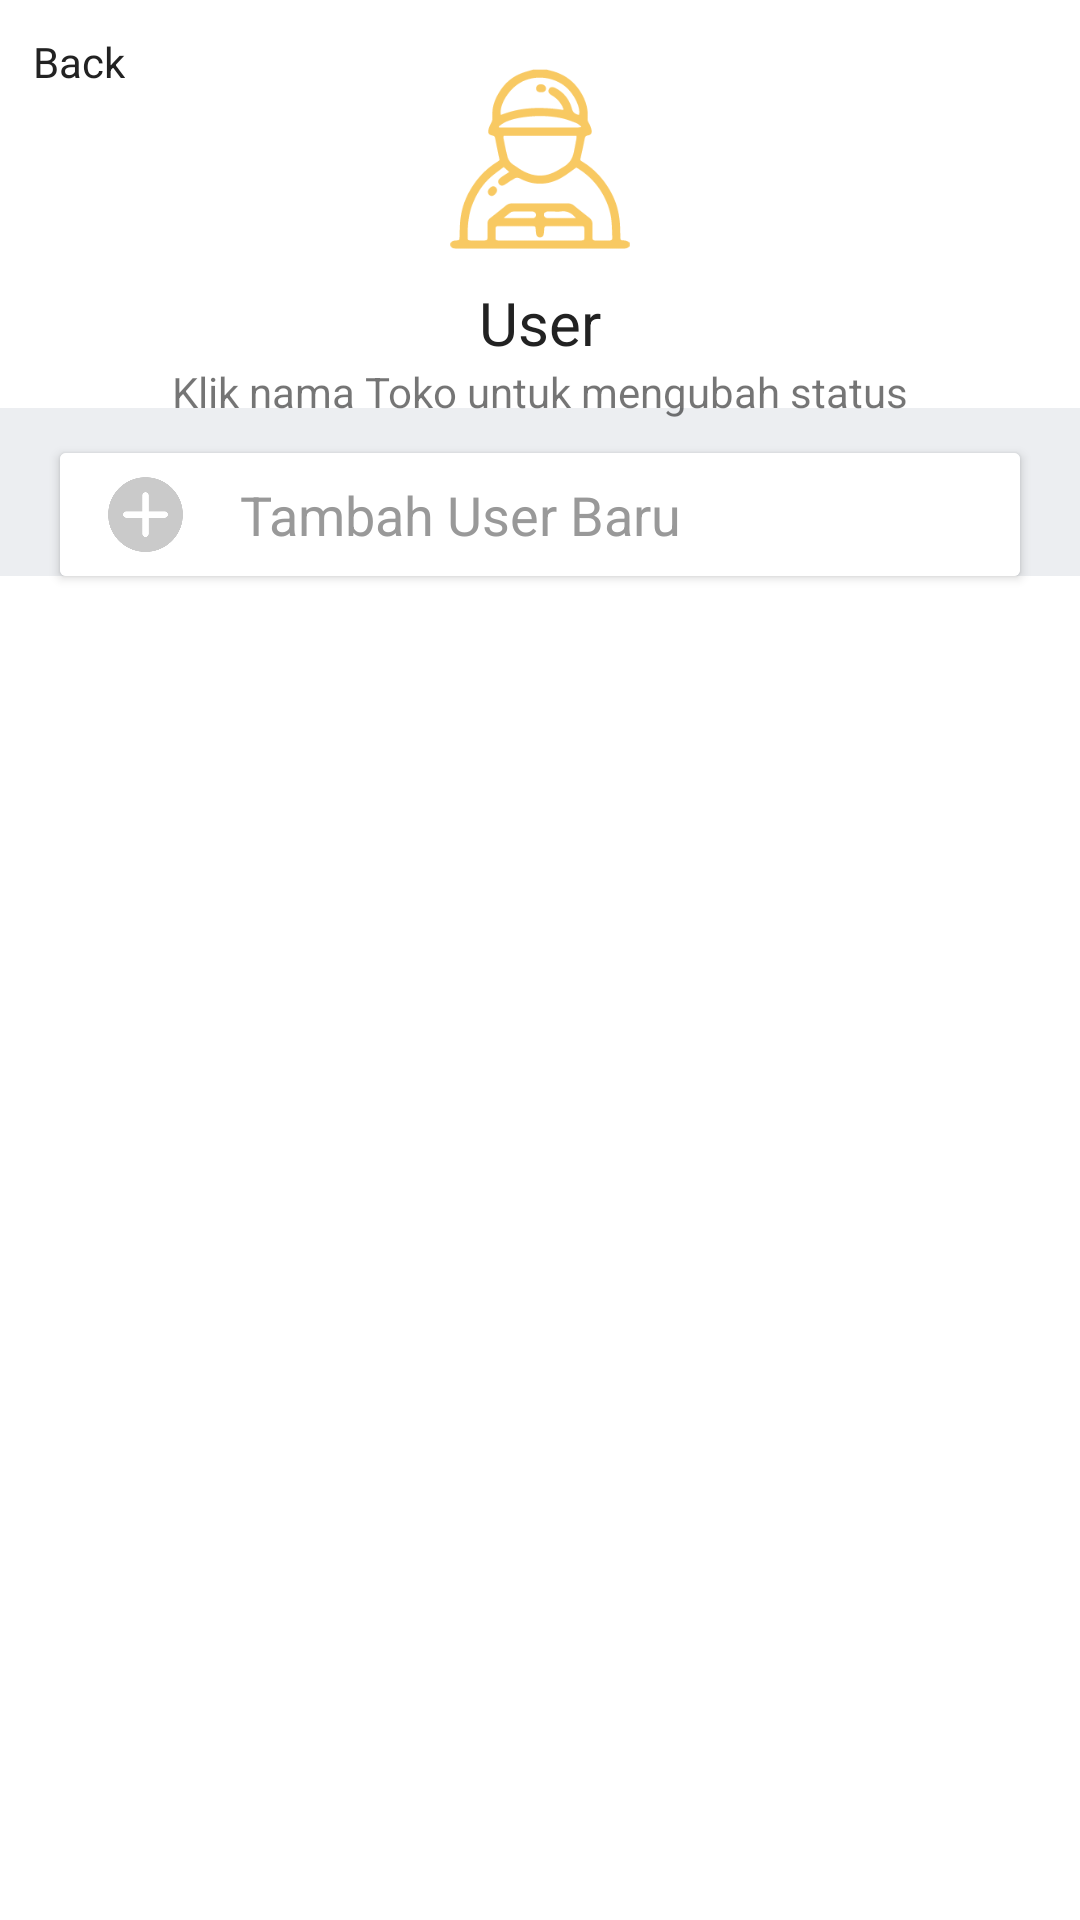

Icon bounding boxes for this 1080*1920 phone screenshot, format (x1, y1, x2, y2):
btnplus: (108, 477, 183, 552)
iconsales: (450, 69, 630, 249)
